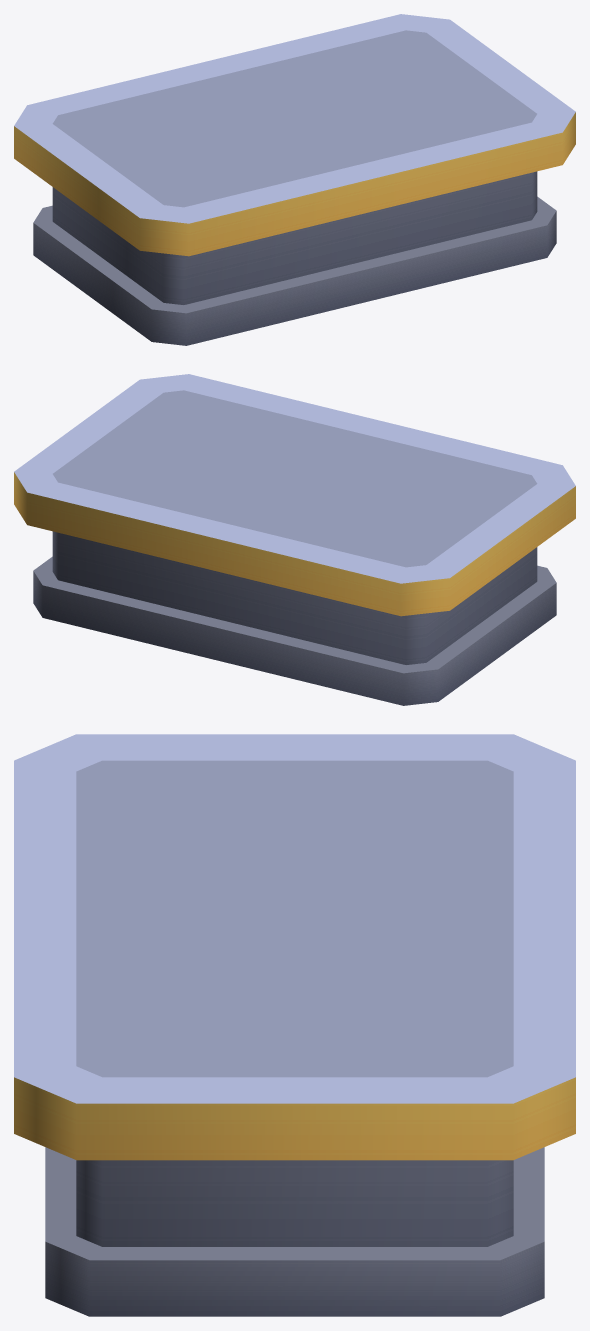
The model's file is table-large.glb.
3 views of the same model, one above another, from view 1: azimuth 30°, elevation 25°; view 2: azimuth 150°, elevation 25°; view 3: azimuth 270°, elevation 25° (orthographic). The views are drawn at different scales.
Visible parts, largest first — view 1: table-large; view 2: table-large; view 3: table-large.
Boxes of the visible parts, <box> form: table-large: <box>14,14,575,345</box>; table-large: <box>14,374,575,705</box>; table-large: <box>14,734,575,1316</box>.
Bounding box in the file's own units: 1.4 × 0.4 × 0.9001.
Materials: 1 (1 with a texture image).
